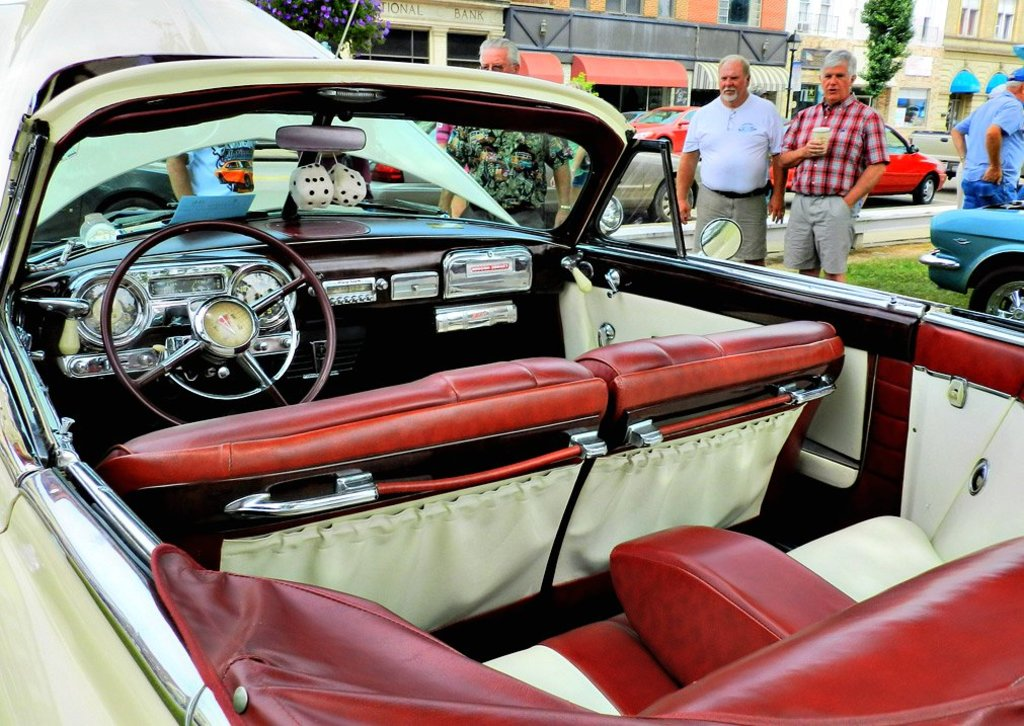Car: (0, 79, 1015, 679), (364, 119, 705, 221), (766, 120, 944, 205), (917, 196, 1022, 320), (32, 164, 176, 252), (626, 103, 703, 151), (616, 107, 647, 122)
